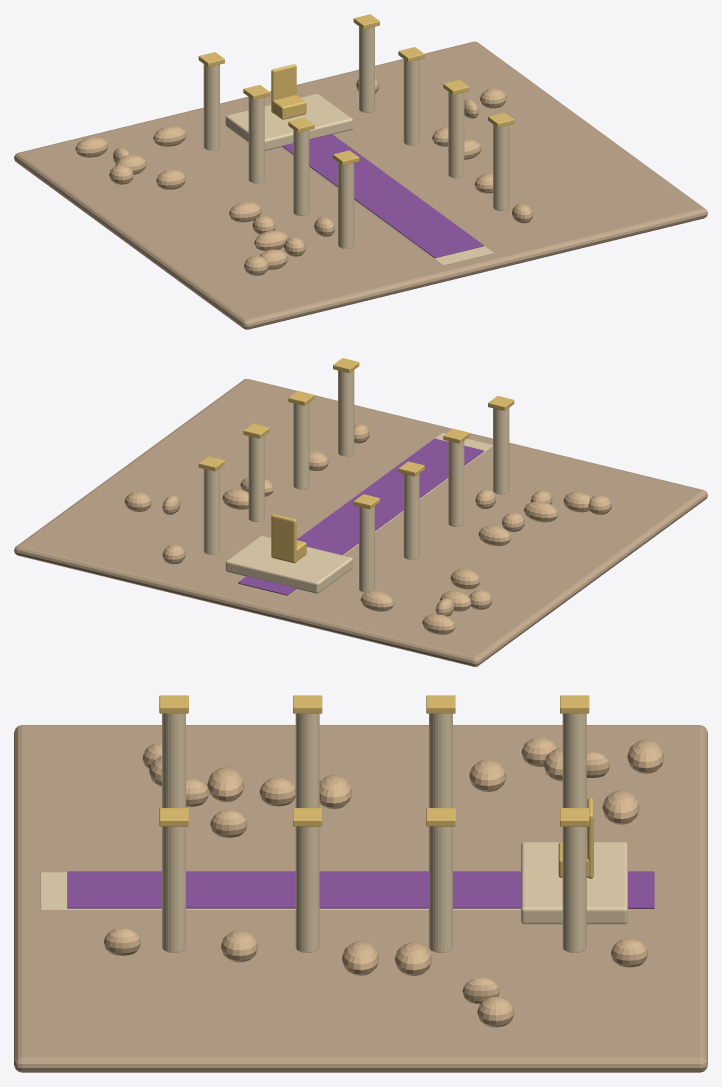
The model's file is story-esther.glb.
3 views of the same model, one above another, from view 1: azimuth 30°, elevation 25°; view 2: azimuth 150°, elevation 25°; view 3: azimuth 270°, elevation 25° (orthographic). The views are drawn at different scales.
Parts seen in each view (by area): view 1: Game mesh Ground.002, Game mesh Sunlit stone.002, Game mesh Ochre plaster.002, Game mesh Persian purple, Game mesh Royal gold.002; view 2: Game mesh Ground.002, Game mesh Sunlit stone.002, Game mesh Ochre plaster.002, Game mesh Persian purple, Game mesh Royal gold.002; view 3: Game mesh Ground.002, Game mesh Sunlit stone.002, Game mesh Ochre plaster.002, Game mesh Persian purple, Game mesh Royal gold.002.
Part boxes in pixels (x1,y1,x2,y2): Game mesh Ground.002: (14, 41, 707, 329); Game mesh Sunlit stone.002: (203, 26, 509, 265); Game mesh Ochre plaster.002: (75, 78, 532, 275); Game mesh Persian purple: (282, 134, 483, 258); Game mesh Royal gold.002: (198, 14, 514, 165); Game mesh Ground.002: (14, 379, 707, 666); Game mesh Sunlit stone.002: (203, 370, 509, 593); Game mesh Ochre plaster.002: (124, 423, 611, 634); Game mesh Persian purple: (238, 438, 483, 595); Game mesh Royal gold.002: (198, 358, 514, 563); Game mesh Ground.002: (14, 725, 707, 1072); Game mesh Sunlit stone.002: (40, 713, 627, 952); Game mesh Ochre plaster.002: (103, 737, 664, 1027); Game mesh Persian purple: (67, 871, 654, 908); Game mesh Royal gold.002: (159, 695, 593, 878).
Bounding box in the file's own units: 30 × 6.14 × 26.
